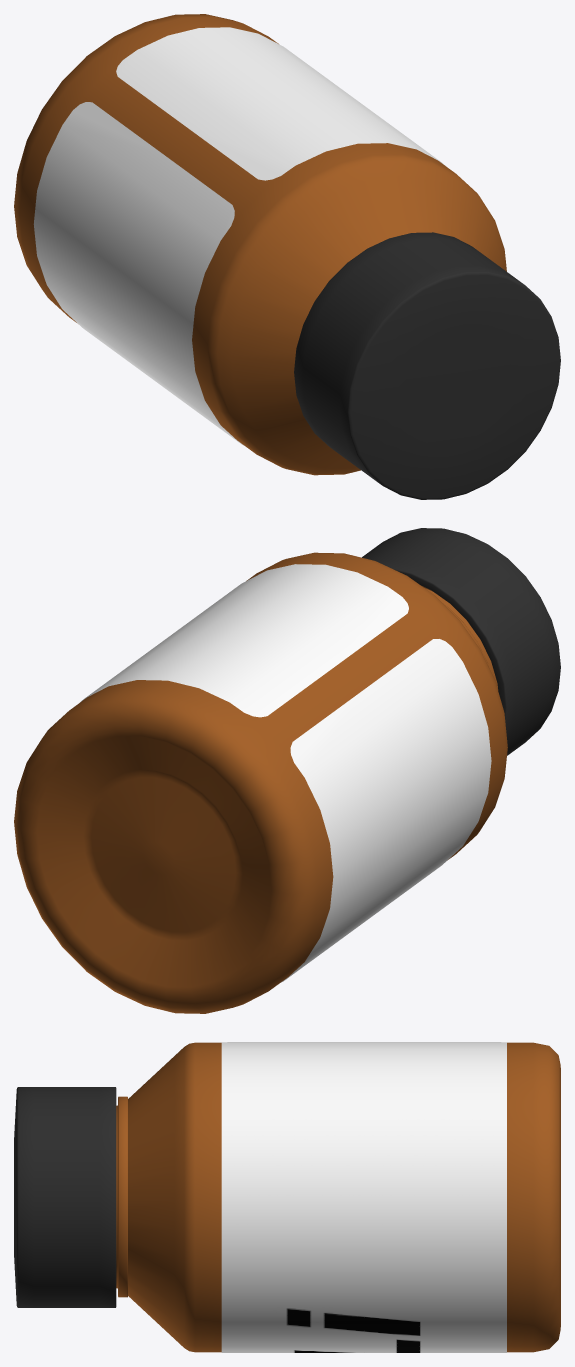
The model's file is bottle.fbx.
3 views of the same model, one above another, from view 1: azimuth 30°, elevation 25°; view 2: azimuth 150°, elevation 25°; view 3: azimuth 270°, elevation 25° (orthographic). The views are drawn at different scales.
Visible parts, largest first — view 1: oil_bottle_001, oil_bottle_001.001; view 2: oil_bottle_001, oil_bottle_001.001; view 3: oil_bottle_001, oil_bottle_001.001.
Boxes of the visible parts, left/top/right/bottom form: oil_bottle_001: left=14, top=14, right=506, bottom=475; oil_bottle_001.001: left=294, top=232, right=560, bottom=499; oil_bottle_001: left=14, top=552, right=507, bottom=1013; oil_bottle_001.001: left=362, top=528, right=560, bottom=755; oil_bottle_001: left=116, top=1042, right=560, bottom=1352; oil_bottle_001.001: left=14, top=1087, right=116, bottom=1307.
Bounding box in the file's own units: 5020 × 4993 × 8800.
